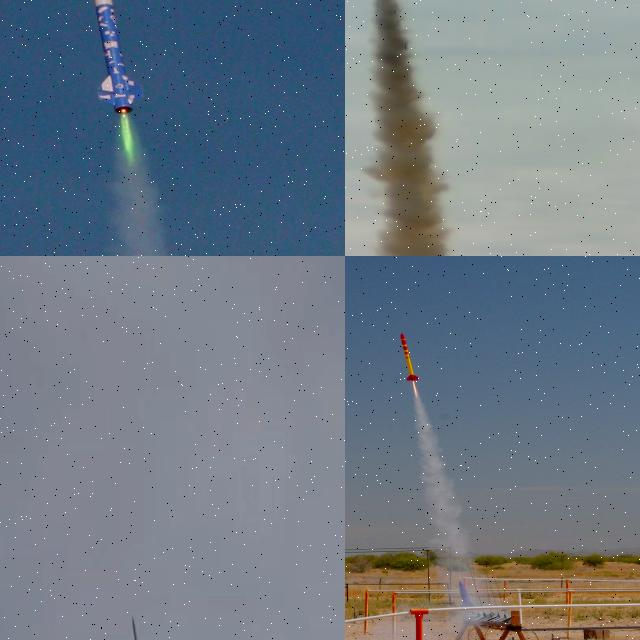Rocket: (82, 0, 145, 117), (400, 333, 419, 381), (458, 582, 476, 610), (132, 615, 146, 640)
